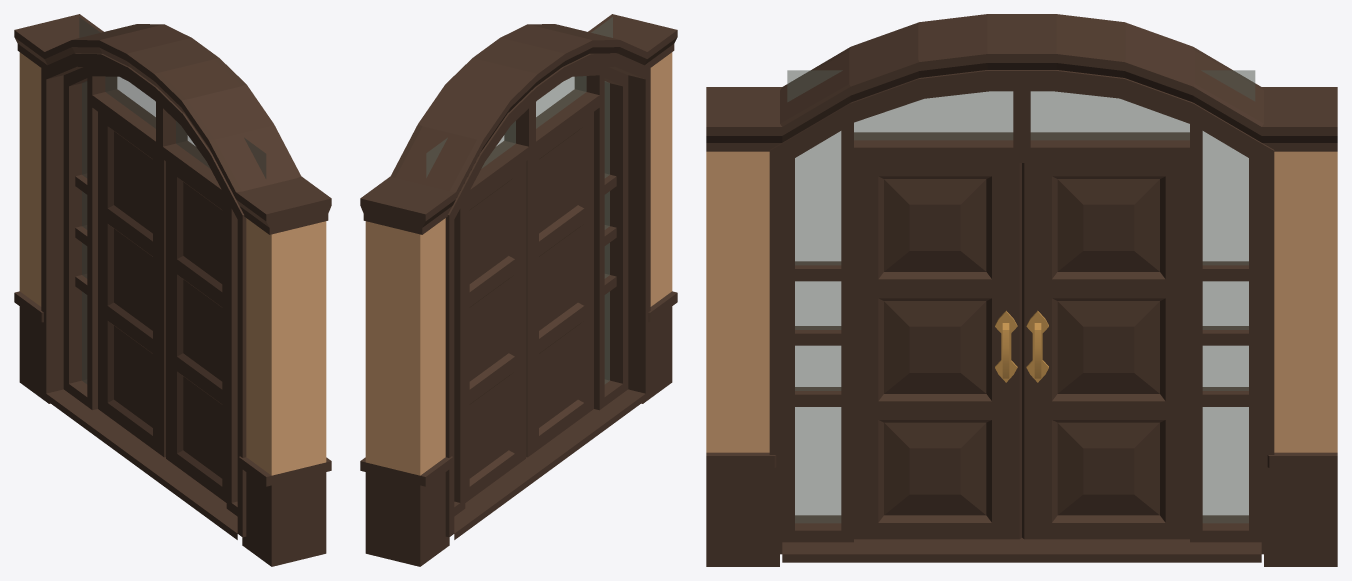
Rendered from S_EntranceDoor.fbx.
3 views of the same model, side by side, from view 1: azimuth 30°, elevation 25°; view 2: azimuth 150°, elevation 25°; view 3: azimuth 270°, elevation 25° (orthographic). The views are drawn at different scales.
Visible parts, largest first — view 1: S_EntranceDoor; view 2: S_EntranceDoor; view 3: S_EntranceDoor.
Part boxes in pixels (left/top/right/bottom): S_EntranceDoor: left=14, top=14, right=331, bottom=566; S_EntranceDoor: left=360, top=14, right=677, bottom=566; S_EntranceDoor: left=706, top=14, right=1337, bottom=566.
Bounding box in the file's own units: 59.94 × 361 × 400.
